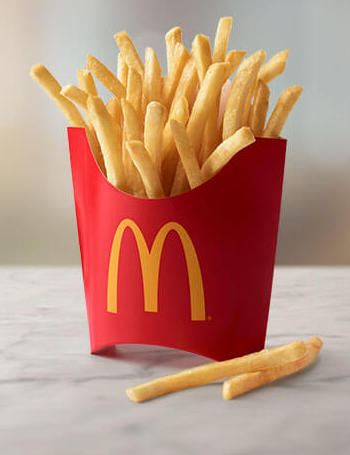mcdonalds: (94, 211, 216, 327)
